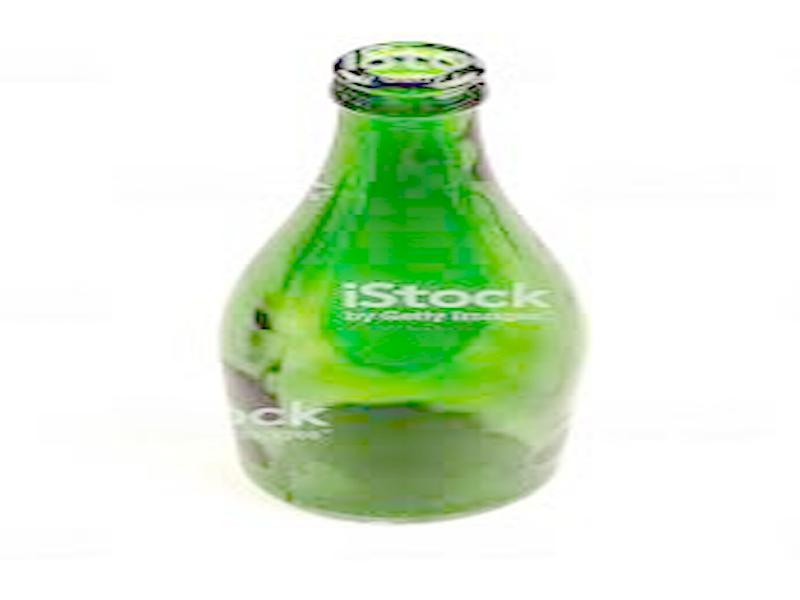Beer: (217, 39, 587, 524)
